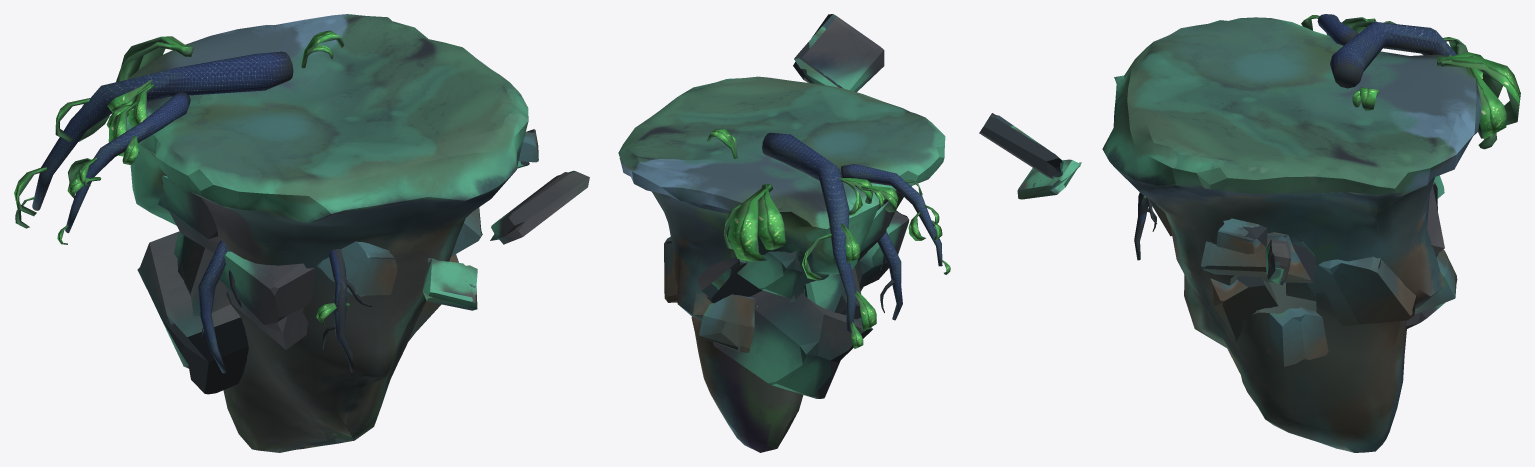
Rendered from AnomalyRockFirst 1.fbx.
The picture shows the model from 3 angles, left to right: view 1: azimuth 30°, elevation 25°; view 2: azimuth 150°, elevation 25°; view 3: azimuth 270°, elevation 25°; orthographic projection. The views are drawn at different scales.
Parts seen in each view (by area): view 1: Cube.011, Cube.042, Cylinder.001, Cube.027, Cube.043, Cube.033, Cylinder.002, Cube.044, Cube.036, Cube.037, Cylinder.003, Cylinder.006 (+3 smaller); view 2: Cube.011, Cube.042, Cube.043, Cylinder.001, Cube.025, Cube.041, Cube.017, Cylinder.002, Cube.040, Cube.027, Cube.037, Cube.018 (+8 smaller); view 3: Cube.011, Cube.026, Cylinder.001, Cube.039, Cube.038, Cube.034, Cube.043, Cube.017, Cube.045, Cube.044, Cube.016, Cube.046 (+3 smaller).
Part boxes in pixels (<box>): Cube.011: <box>112,14,528,452</box>; Cube.042: <box>137,231,248,394</box>; Cylinder.001: <box>32,51,293,210</box>; Cube.027: <box>219,250,314,349</box>; Cube.043: <box>490,170,589,244</box>; Cube.033: <box>317,241,397,296</box>; Cylinder.002: <box>65,91,190,233</box>; Cube.044: <box>422,258,477,310</box>; Cube.036: <box>158,175,220,252</box>; Cube.037: <box>174,231,230,315</box>; Cylinder.003: <box>198,240,228,373</box>; Cylinder.006: <box>329,249,354,372</box>; Cube.011: <box>618,76,945,452</box>; Cube.042: <box>713,290,872,398</box>; Cube.043: <box>793,14,884,92</box>; Cylinder.001: <box>762,132,856,332</box>; Cube.025: <box>699,294,755,352</box>; Cube.041: <box>721,251,802,298</box>; Cube.017: <box>728,184,772,262</box>; Cylinder.002: <box>840,164,942,266</box>; Cube.040: <box>697,257,762,303</box>; Cube.027: <box>855,211,909,288</box>; Cube.037: <box>803,267,861,319</box>; Cube.018: <box>757,183,786,250</box>; Cube.011: <box>1102,17,1481,452</box>; Cube.026: <box>1307,256,1416,326</box>; Cylinder.001: <box>1330,21,1482,138</box>; Cube.039: <box>1266,307,1328,366</box>; Cube.038: <box>1201,232,1315,283</box>; Cube.034: <box>1210,276,1277,341</box>; Cube.043: <box>979,113,1063,179</box>; Cube.017: <box>1437,57,1520,125</box>; Cube.045: <box>1216,218,1267,254</box>; Cube.044: <box>1017,159,1081,199</box>; Cube.016: <box>1465,67,1506,139</box>; Cube.046: <box>1265,239,1290,285</box>.
Bounding box in the file's own units: 5790 × 5182 × 6558.
